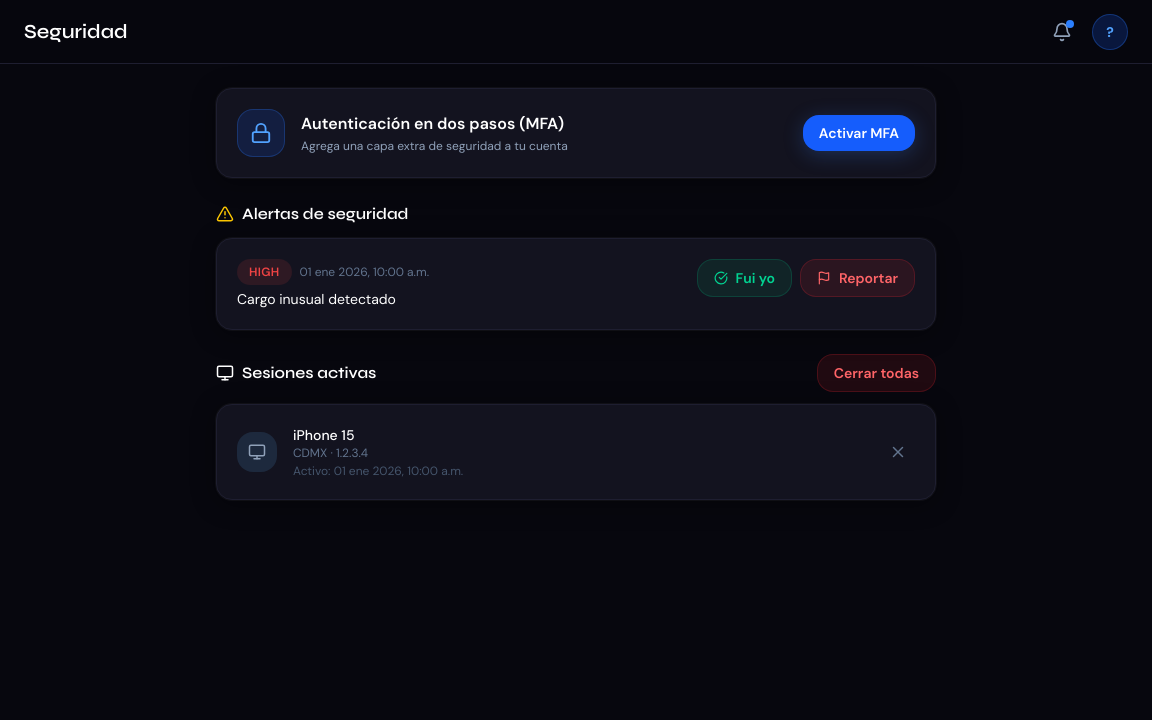
Test: SecurityPage › "Reportar" opens the report modal, and submitting reports + removes the alert
expect the text "Cargo inusual detectado" is shown: met, box top-left (237, 290), bottom-right (396, 308)
Click the button "Reportar": point(857, 278) top-left (800, 259), bottom-right (915, 297)
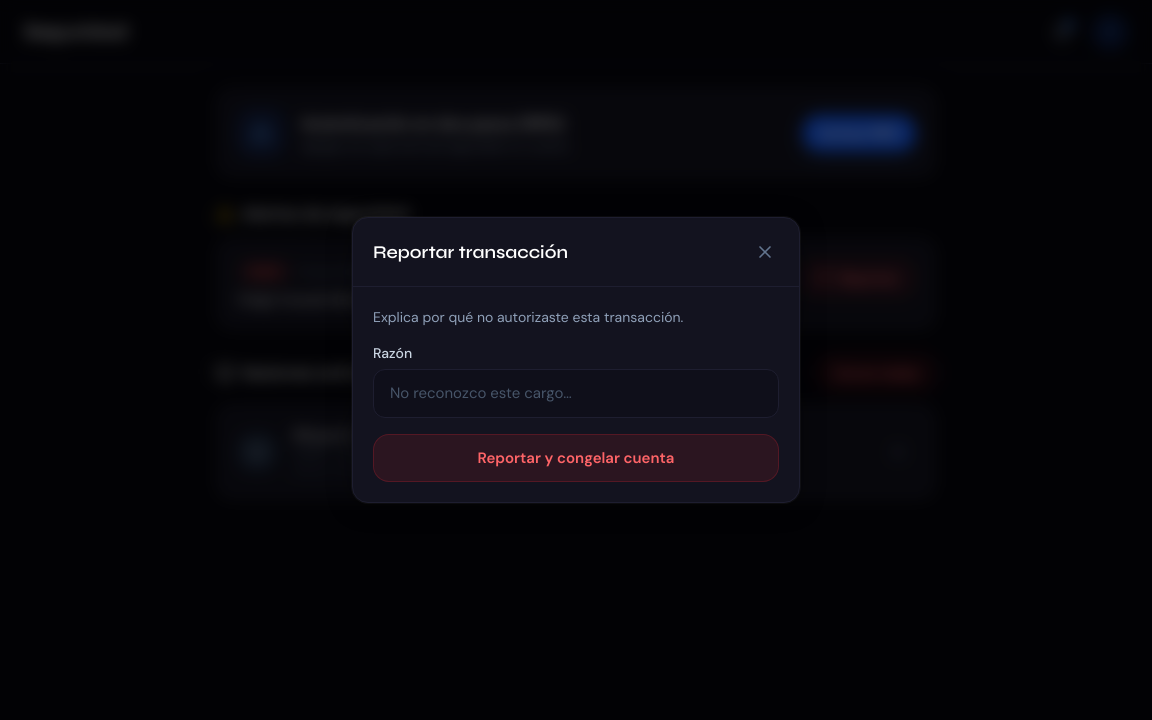
expect the heading "Reportar transacción" is shown: met, box top-left (373, 238), bottom-right (568, 266)
In the field with placeholder "No reconozco este cargo…": point(576, 393) top-left (373, 369), bottom-right (779, 418), type "No fui yo"
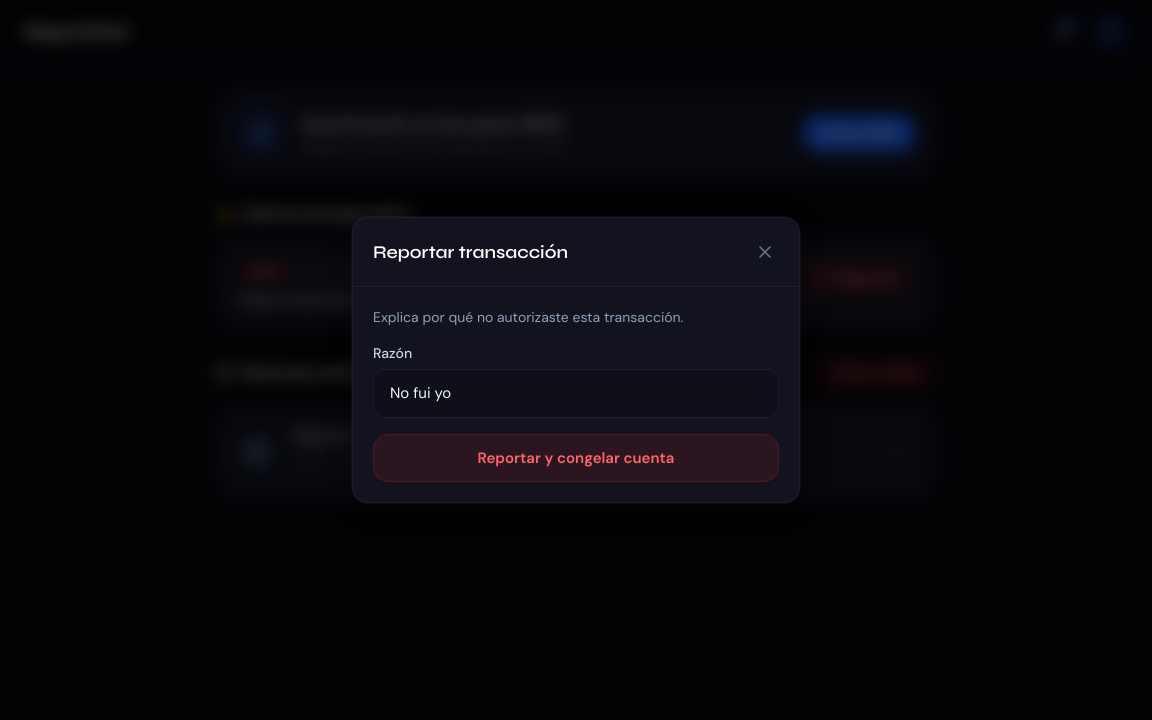
Click the button "Reportar y congelar cuenta": point(576, 458) top-left (373, 434), bottom-right (779, 482)
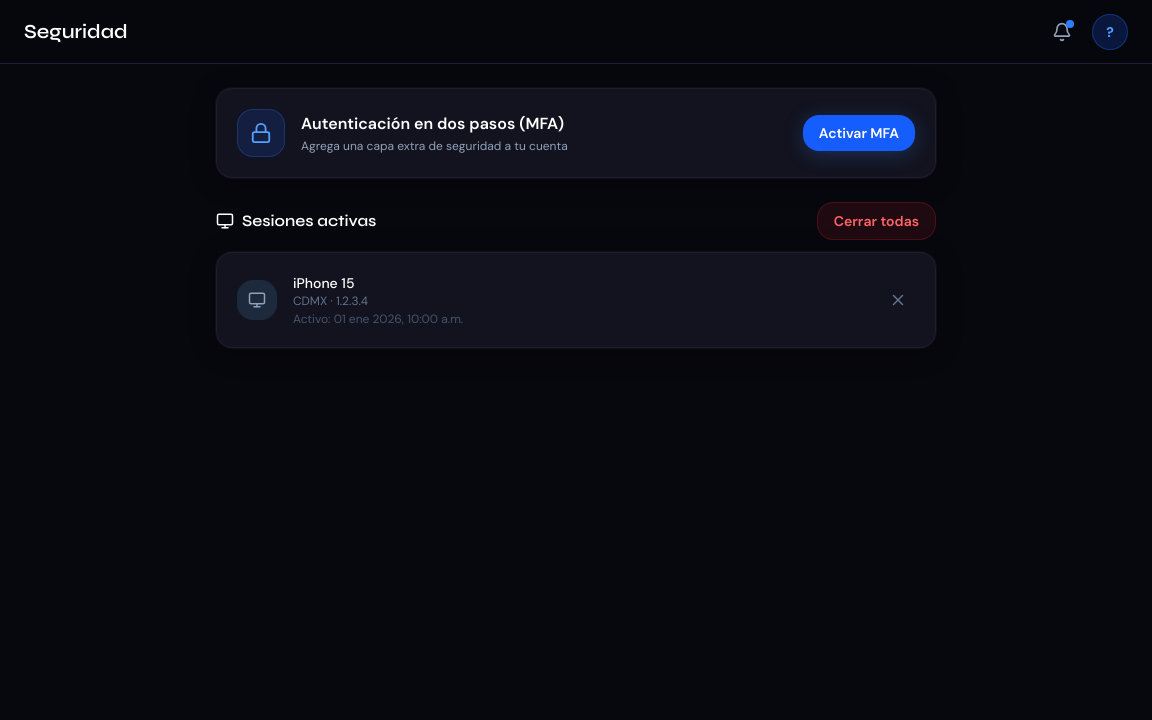
expect the text "Cargo inusual detectado" is gone: met
